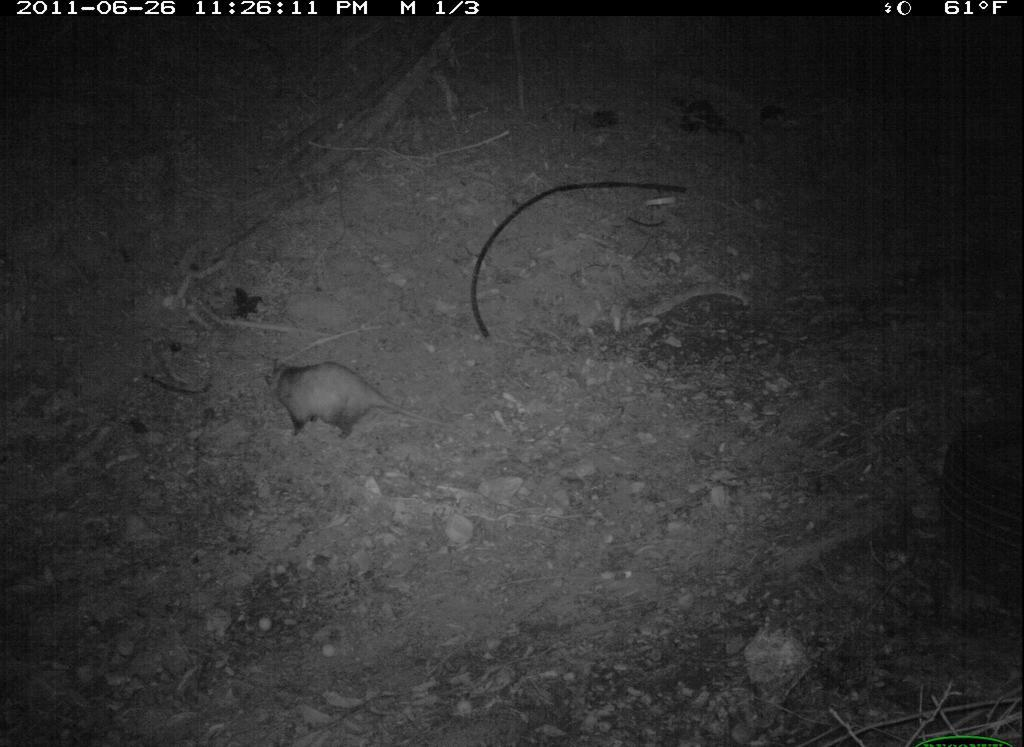opossum: (262, 354, 459, 441)
